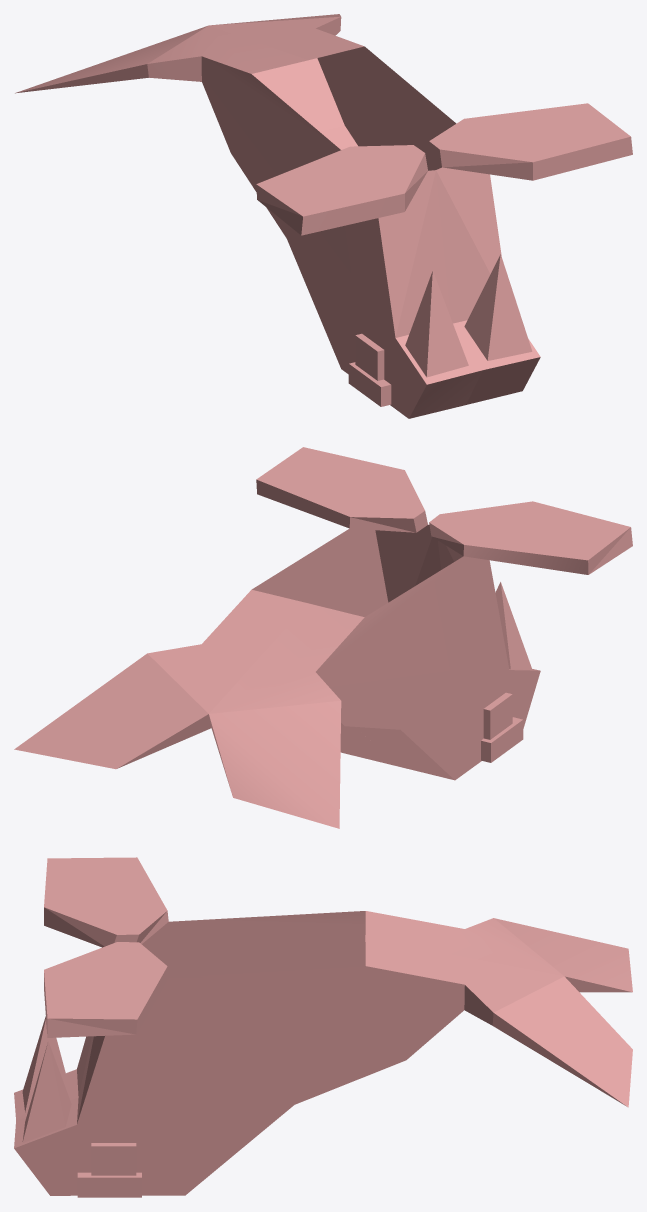
Rendered from wally.glb.
3 views of the same model, one above another, from view 1: azimuth 30°, elevation 25°; view 2: azimuth 150°, elevation 25°; view 3: azimuth 270°, elevation 25° (orthographic).
Visible parts, largest first — view 1: Walrus_Mesh; view 2: Walrus_Mesh; view 3: Walrus_Mesh.
Boxes of the visible parts, <box> form: Walrus_Mesh: <box>15,14,632,418</box>; Walrus_Mesh: <box>14,447,632,828</box>; Walrus_Mesh: <box>14,857,632,1197</box>.
Size of the model in its own units: 4.08 by 2.69 by 6.58.
